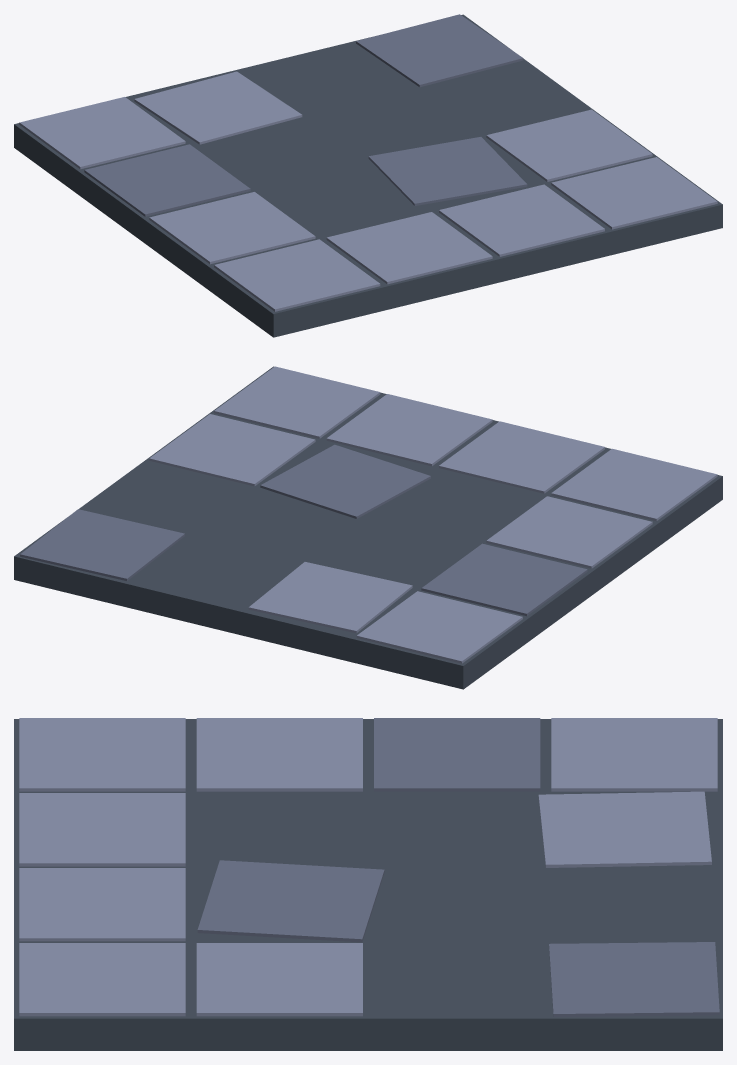
File: FloorTile02.fbx
3 renders of one model, top to bottom at view 1: azimuth 30°, elevation 25°; view 2: azimuth 150°, elevation 25°; view 3: azimuth 270°, elevation 25°, orthographic. The views are drawn at different scales.
Visible parts, largest first — view 1: Tile02; view 2: Tile02; view 3: Tile02.
Part boxes in pixels (x1,y1,x2,y2): Tile02: [14, 14, 722, 337]; Tile02: [14, 366, 722, 689]; Tile02: [14, 718, 722, 1050].
Size of the model in its own units: 2 by 0.1101 by 2.
